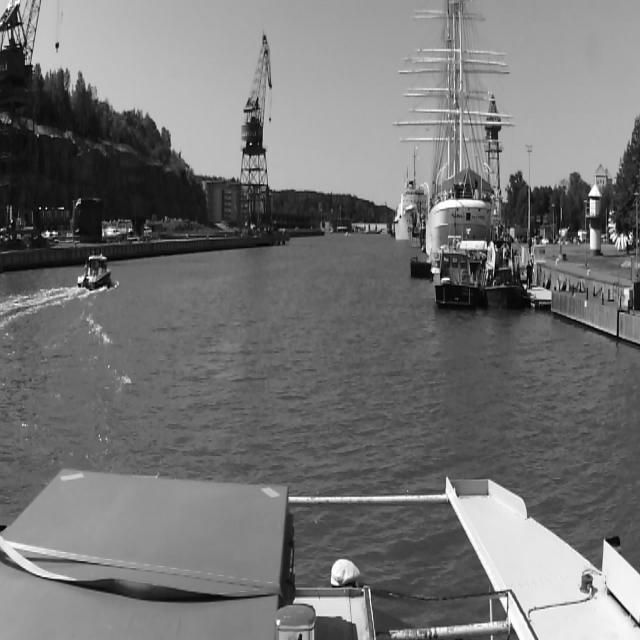ship: (392, 9, 512, 234), (483, 239, 525, 310), (433, 245, 473, 305), (395, 182, 425, 252), (77, 255, 111, 285)
